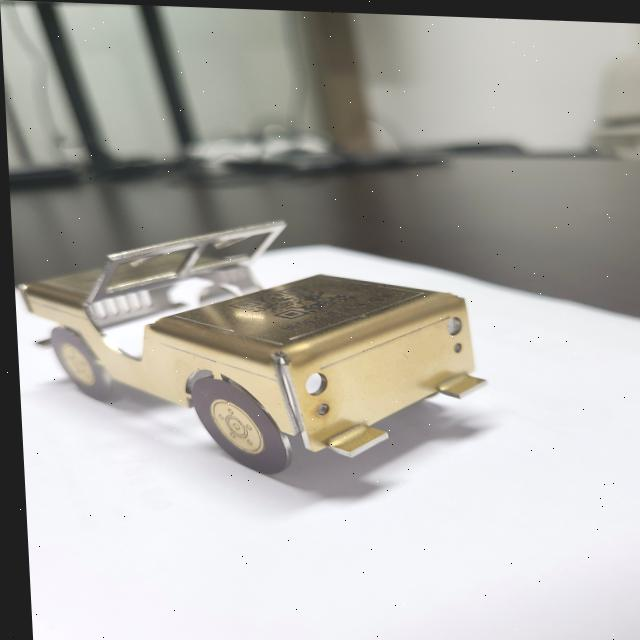tire: (187, 376, 289, 472), (47, 325, 114, 401)
